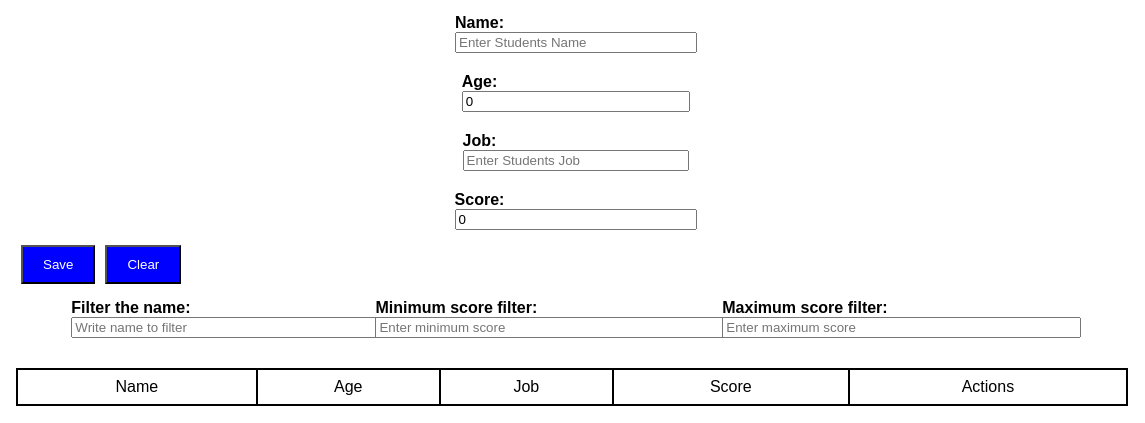
Test case: Student editable table › clears the form inputs when the Clear button is clicked
In the field with placeholder "Enter Students Name": (576, 42) x1=455 y1=32 x2=697 y2=53, type "Raman"
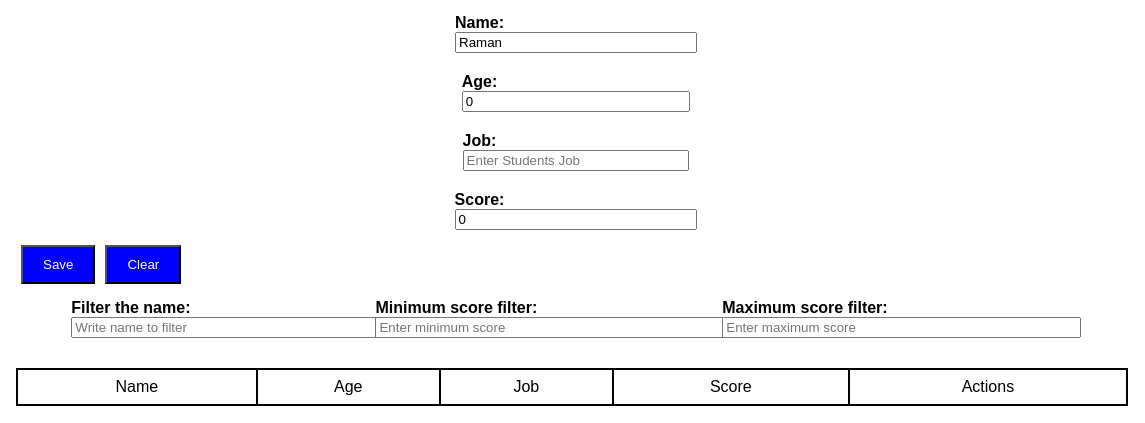
Replace the text in the number field with placeholder "Enter Students Age" with "30": (576, 102) x1=462 y1=91 x2=690 y2=112
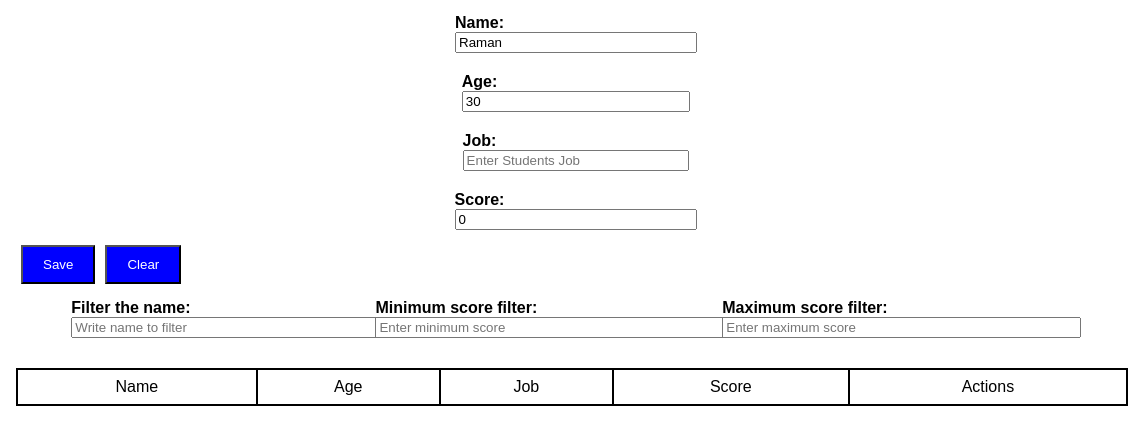
In the field with placeholder "Enter Students Job": (576, 160) x1=463 y1=150 x2=689 y2=171, type "Designer"
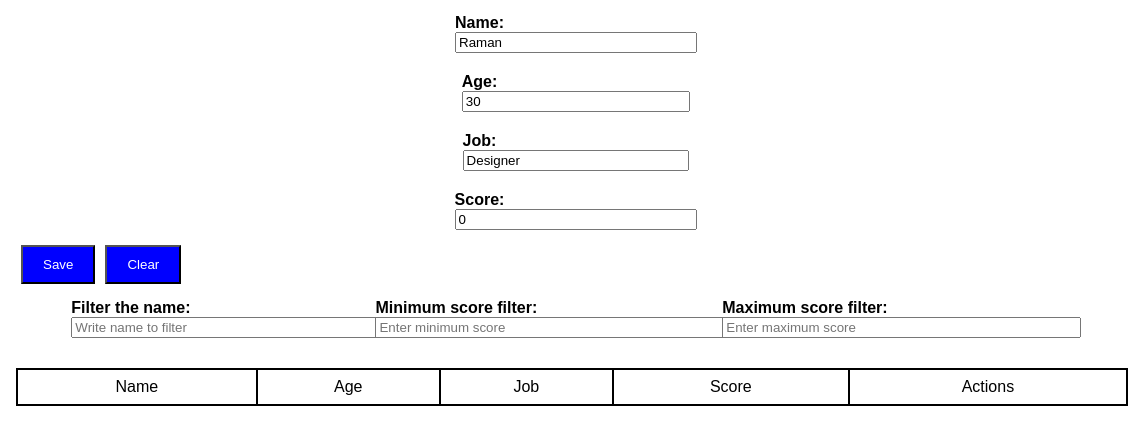
Replace the text in the number field with placeholder "Enter Students Score" with "90": (576, 220) x1=455 y1=209 x2=697 y2=230
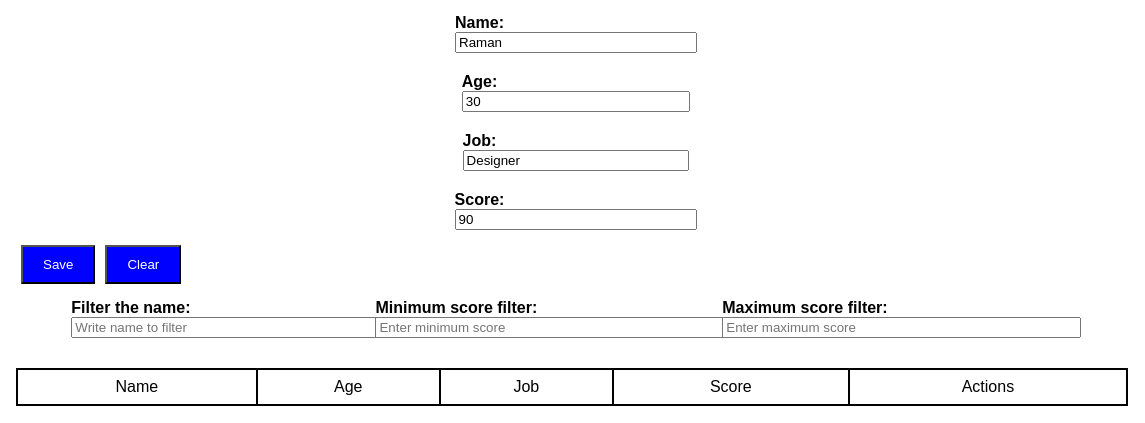
Click the button "Clear": (143, 264) x1=105 y1=245 x2=181 y2=284
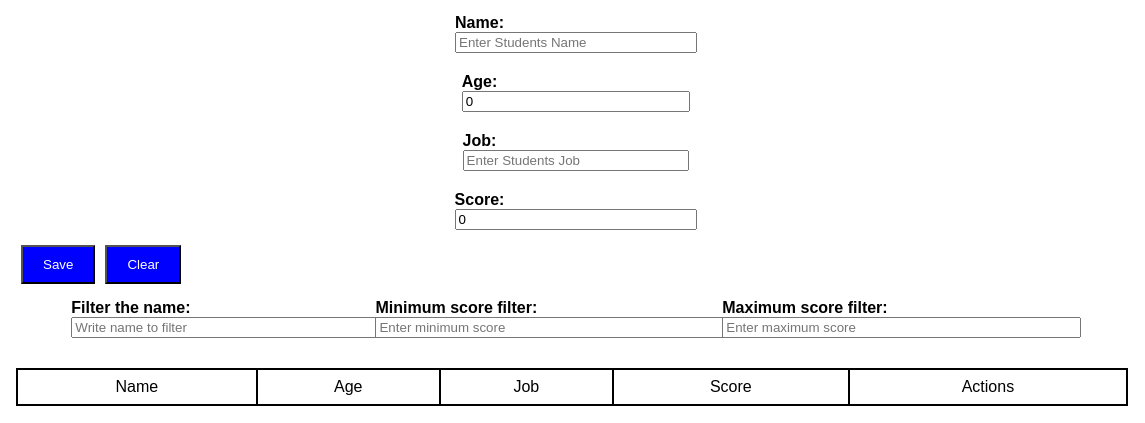
Result: the field with placeholder "Enter Students Name" is empty at x1=455 y1=32 x2=697 y2=53
Result: the number field with placeholder "Enter Students Age" holds "0" at x1=462 y1=91 x2=690 y2=112
Result: the field with placeholder "Enter Students Job" is empty at x1=463 y1=150 x2=689 y2=171
